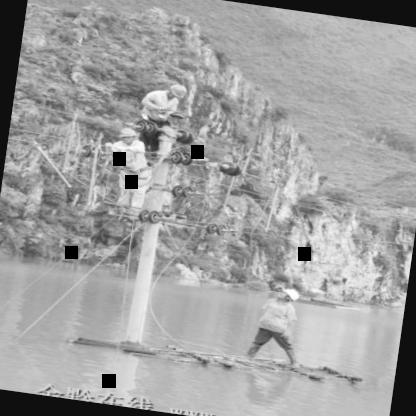helmet: (274, 285, 303, 307), (113, 126, 141, 148), (164, 81, 188, 102)
